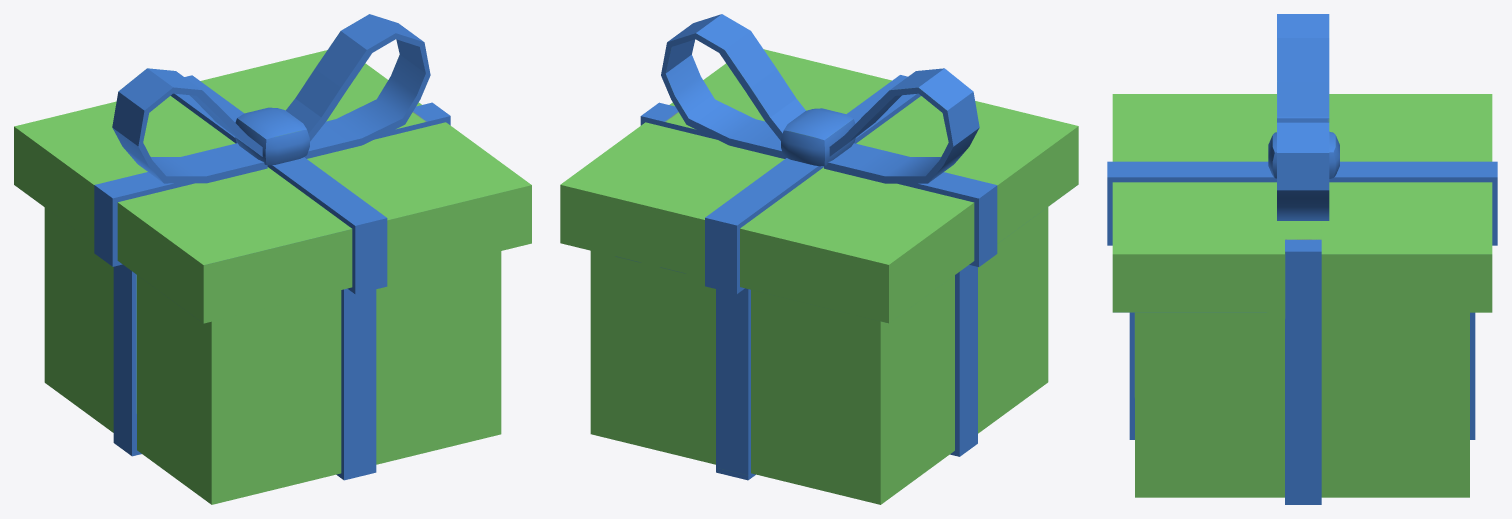
Rendered from presentbox_5.fbx.
The picture shows the model from 3 angles, left to right: view 1: azimuth 30°, elevation 25°; view 2: azimuth 150°, elevation 25°; view 3: azimuth 270°, elevation 25°; orthographic projection.
Visible parts, largest first — view 1: Box001; view 2: Box001; view 3: Box001.
Part boxes in pixels (bbox=[...]): Box001: bbox=[14, 14, 531, 504]; Box001: bbox=[560, 14, 1078, 504]; Box001: bbox=[1107, 14, 1497, 504].
Size of the model in its own units: 70 by 71.8 by 70.
